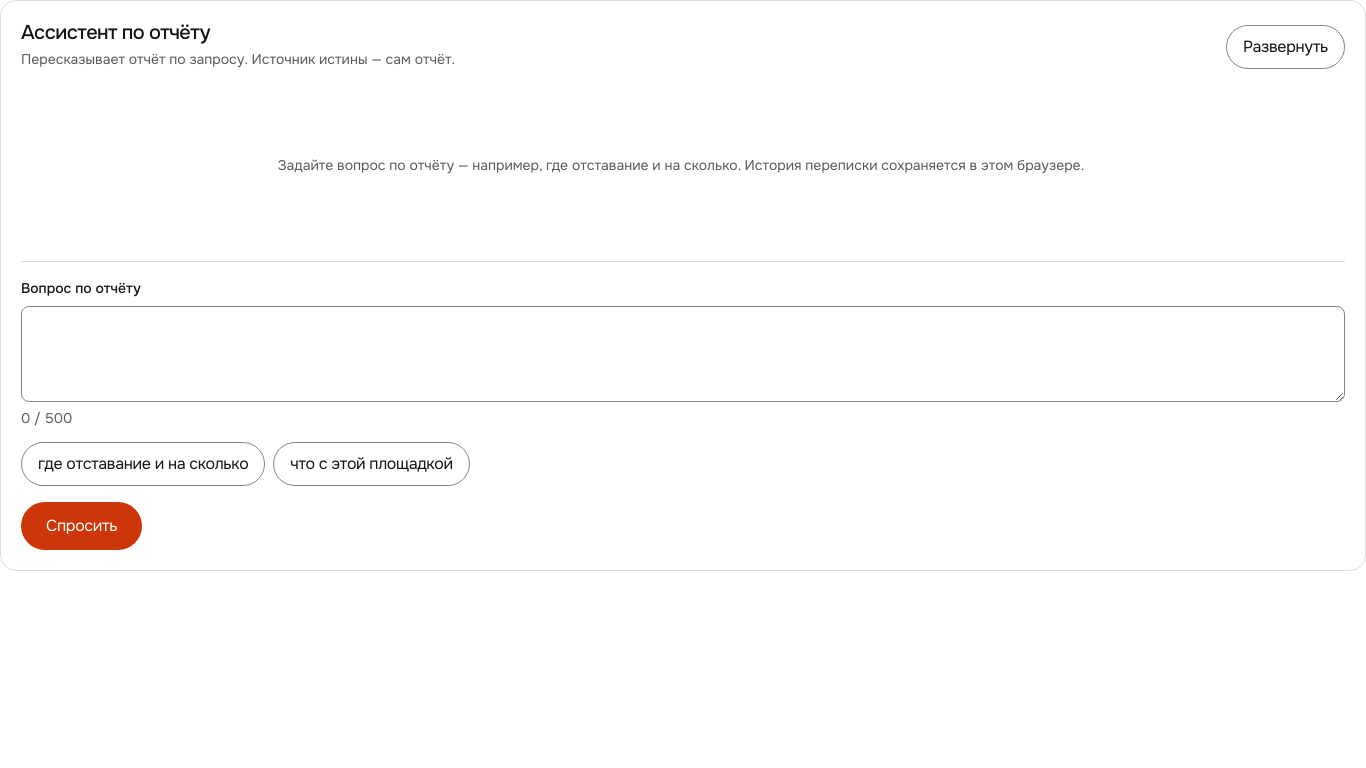
AssistantPanel › Pending state › отключает кнопку "Спросить" и показывает "Отменить" во время ожидания
This screenshot has width=1366, height=768.
Expected: the heading "Ассистент по отчёту" is shown, top-left (21, 20), bottom-right (210, 45)
Click the text box labelled "Вопрос по отчёту" at (683, 354), box top-left (21, 306), bottom-right (1345, 402)
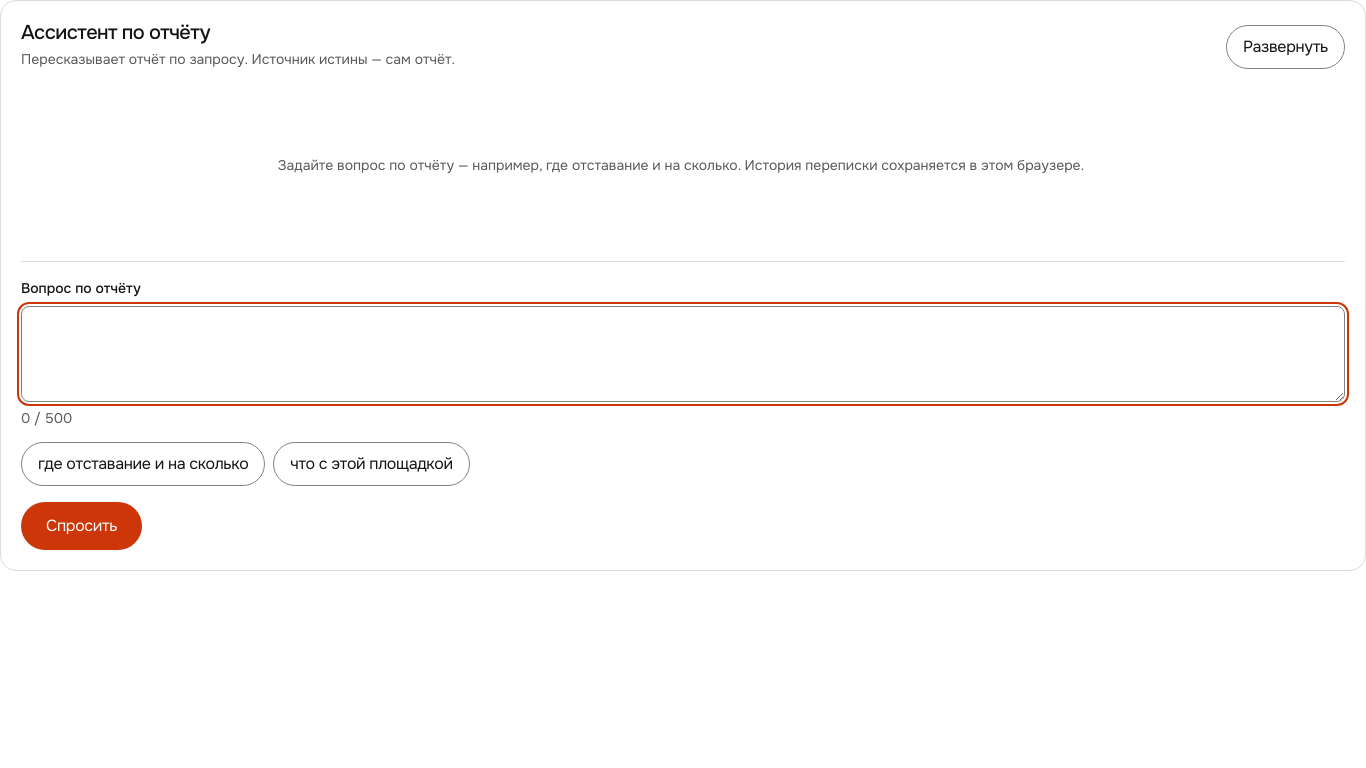
Type keys "Где отставание?"
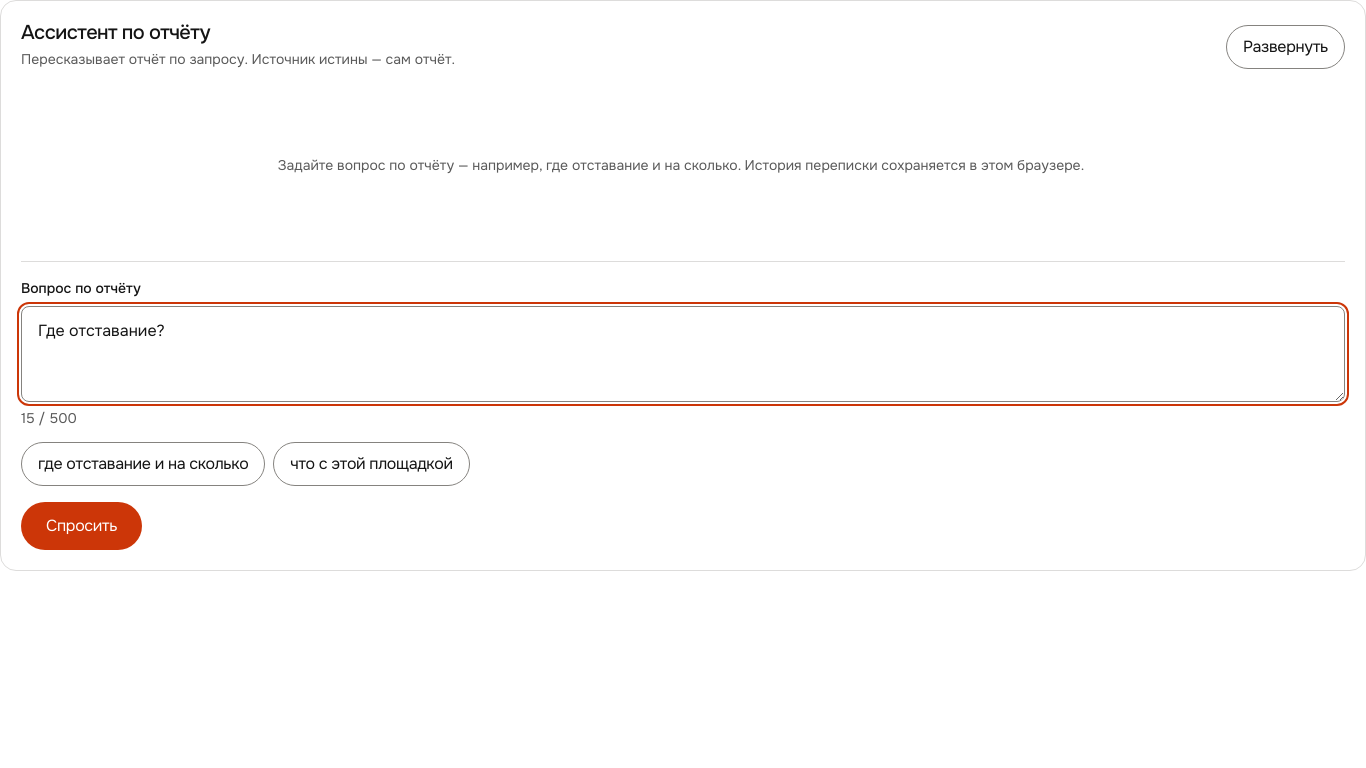
Click the button "Спросить" at (82, 526), box top-left (21, 502), bottom-right (142, 550)
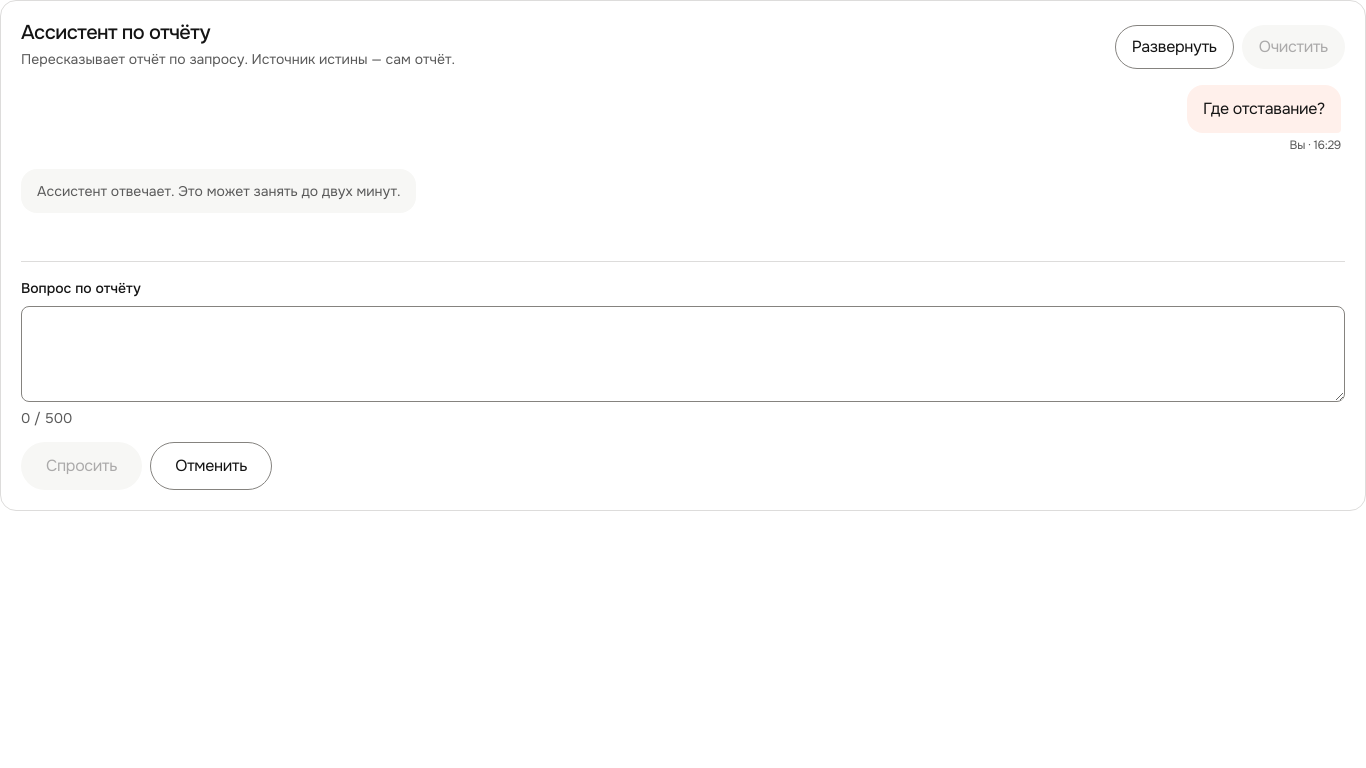
Result: the button "Спросить" is disabled at top-left (21, 442), bottom-right (142, 490)
Result: the button "Отменить" is shown at top-left (150, 442), bottom-right (272, 490)
